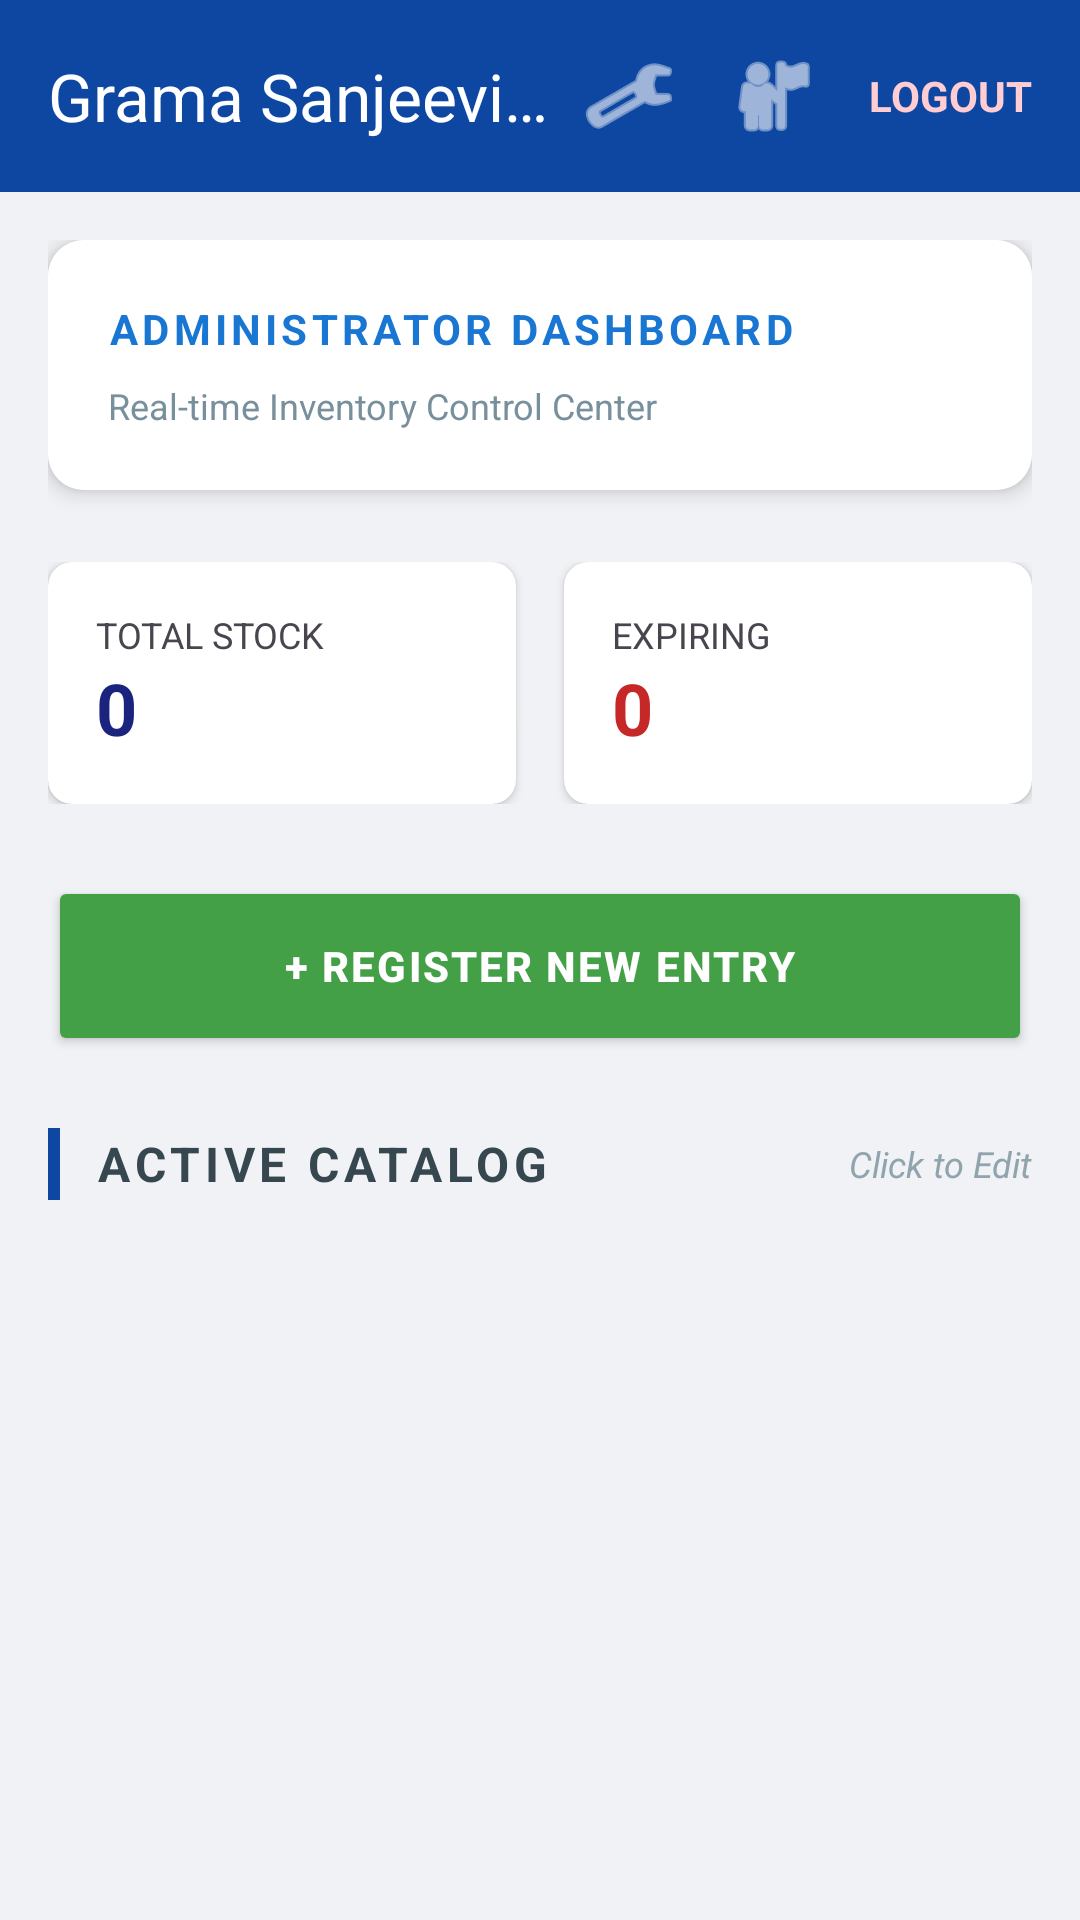

Named icons in this screenshot (1080 × 1920) and their bounding boxes, (x1, y1, x2, y2):
Profile: (738, 60, 810, 132)
Settings: (586, 63, 672, 129)
